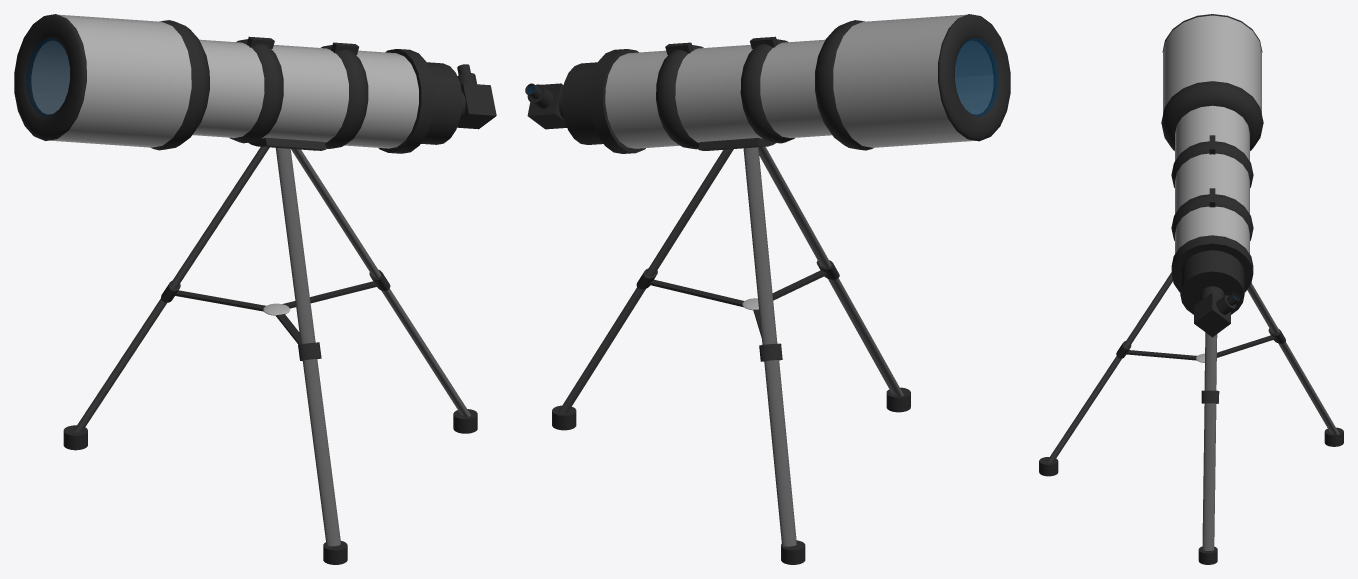
File: entireTelescope.fbx
3 renders of one model, left to right at view 1: azimuth 30°, elevation 25°; view 2: azimuth 150°, elevation 25°; view 3: azimuth 270°, elevation 25°, orthographic. The views are drawn at different scales.
Parts seen in each view (by area): view 1: pCylinder2, pCylinder22, pTorus5, pCylinder13, pCylinder15, pDisc1, pTorus1, pCylinder4, pTorus3, pTorus4, pCylinder3, pCylinder12 (+6 smaller); view 2: pCylinder2, pCylinder22, pTorus5, pCylinder12, pCylinder16, pDisc1, pTorus1, pCylinder4, pTorus3, pTorus4, pCylinder3, pCylinder13 (+6 smaller); view 3: pCylinder2, pCylinder22, pTorus1, pCylinder4, pCylinder14, pCylinder3, pTorus4, pTorus3, pCube3, pCylinder15, pCylinder16, pCylinder10 (+2 smaller).
Part boxes in pixels (x1,y1,x2,y2): pCylinder2: [192, 39, 418, 148]; pCylinder22: [31, 14, 191, 147]; pTorus5: [14, 14, 86, 140]; pCylinder13: [275, 148, 315, 344]; pCylinder15: [302, 359, 340, 546]; pDisc1: [26, 38, 69, 116]; pTorus1: [151, 20, 209, 150]; pCylinder4: [421, 62, 462, 144]; pTorus3: [229, 39, 283, 143]; pTorus4: [321, 45, 368, 148]; pCylinder3: [378, 49, 434, 153]; pCylinder12: [170, 146, 269, 288]; pCylinder2: [605, 39, 831, 148]; pCylinder22: [833, 14, 993, 147]; pTorus5: [938, 14, 1010, 141]; pCylinder12: [743, 147, 777, 344]; pCylinder16: [764, 360, 796, 546]; pDisc1: [955, 38, 998, 116]; pTorus1: [815, 20, 873, 150]; pCylinder4: [562, 62, 603, 144]; pTorus3: [740, 39, 794, 143]; pTorus4: [656, 45, 703, 149]; pCylinder3: [589, 49, 645, 153]; pCylinder13: [758, 146, 831, 267]; pCylinder2: [1175, 105, 1249, 253]; pCylinder22: [1163, 15, 1261, 113]; pTorus1: [1161, 81, 1263, 150]; pCylinder4: [1180, 250, 1244, 314]; pCylinder14: [1202, 403, 1216, 550]; pCylinder3: [1171, 235, 1253, 292]; pTorus4: [1171, 194, 1253, 240]; pTorus3: [1171, 141, 1253, 187]; pCube3: [1194, 292, 1230, 337]; pCylinder15: [1047, 356, 1121, 463]; pCylinder16: [1278, 342, 1339, 434]; pCylinder10: [1204, 332, 1217, 390].
Size of the model in its own units: 13.17 by 13.87 by 9.69.
